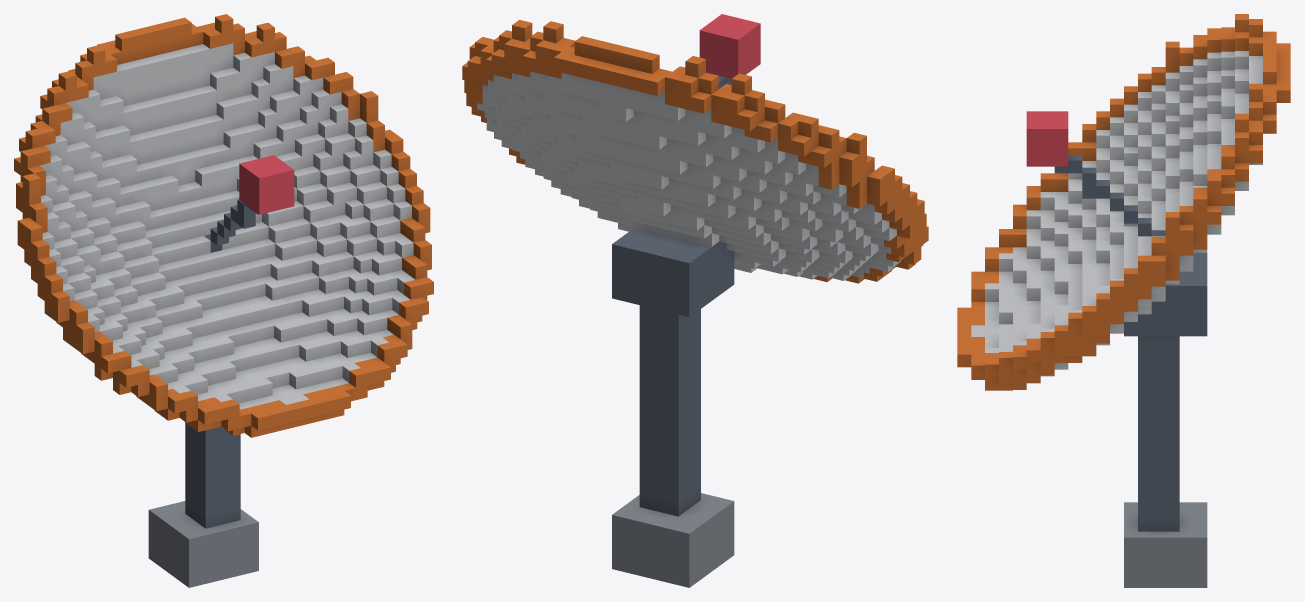
File: dish_n2.glb
3 renders of one model, left to right at view 1: azimuth 30°, elevation 25°; view 2: azimuth 150°, elevation 25°; view 3: azimuth 270°, elevation 25°, orthographic. The views are drawn at different scales.
Parts seen in each view (by area): view 1: Base; view 2: Base; view 3: Base.
Part boxes in pixels (x1,y1,x2,y2): Base: (14, 14, 433, 587); Base: (462, 14, 928, 587); Base: (957, 14, 1290, 587).
Size of the model in its own units: 3.2 by 4.1 by 2.4.
